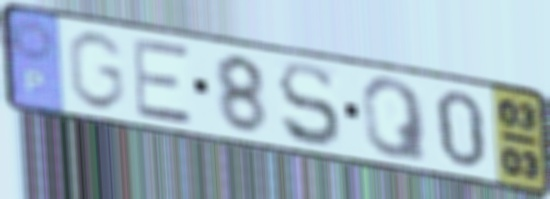0: (431, 88, 490, 170)
8: (209, 52, 272, 136)
E: (129, 37, 198, 128)
G: (64, 29, 128, 114)
Q: (358, 75, 432, 166)
S: (274, 60, 345, 151)
